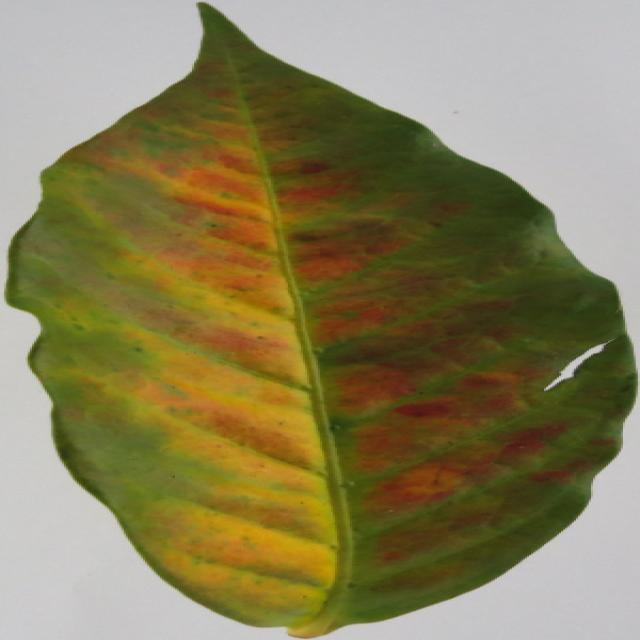DeficienciaNutricional-Fosforo: (6, 4, 636, 637)
